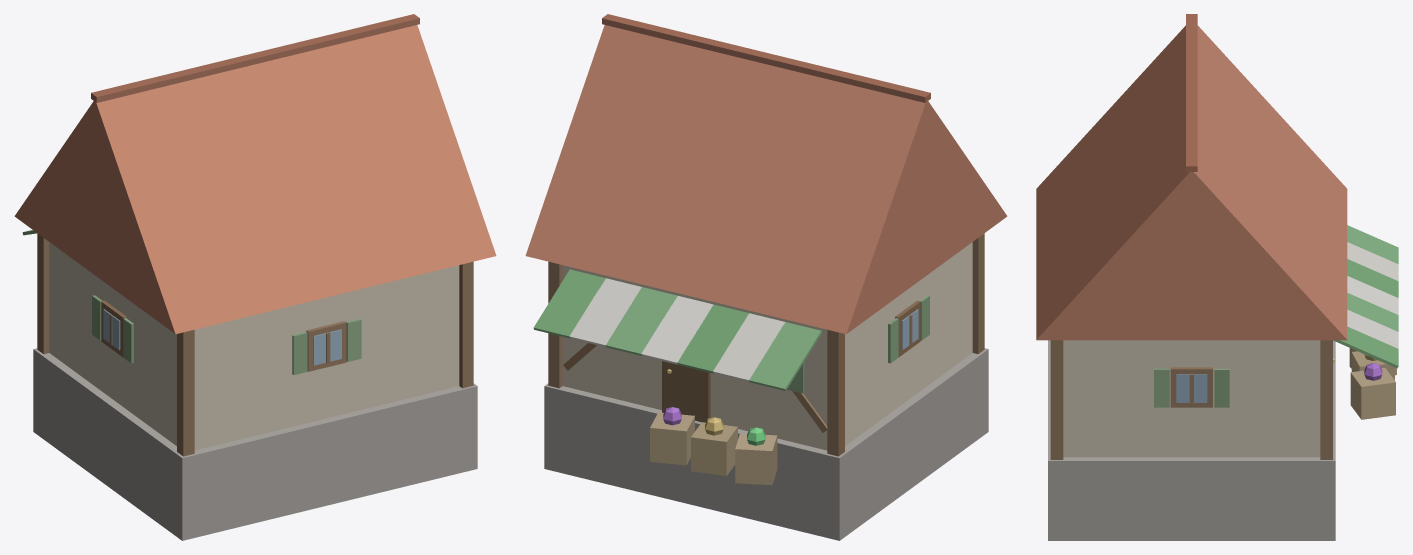
The model's file is shop.glb.
The picture shows the model from 3 angles, left to right: view 1: azimuth 30°, elevation 25°; view 2: azimuth 150°, elevation 25°; view 3: azimuth 270°, elevation 25°; orthographic projection. The views are drawn at different scales.
Visible parts, largest first — view 1: shop2; view 2: shop2; view 3: shop2.
Boxes of the visible parts, x1,y1,x2,y2 form: shop2: (14, 14, 496, 540); shop2: (525, 14, 1007, 540); shop2: (1036, 14, 1398, 540).
Size of the model in its own units: 6.95 by 8.11 by 6.99.
